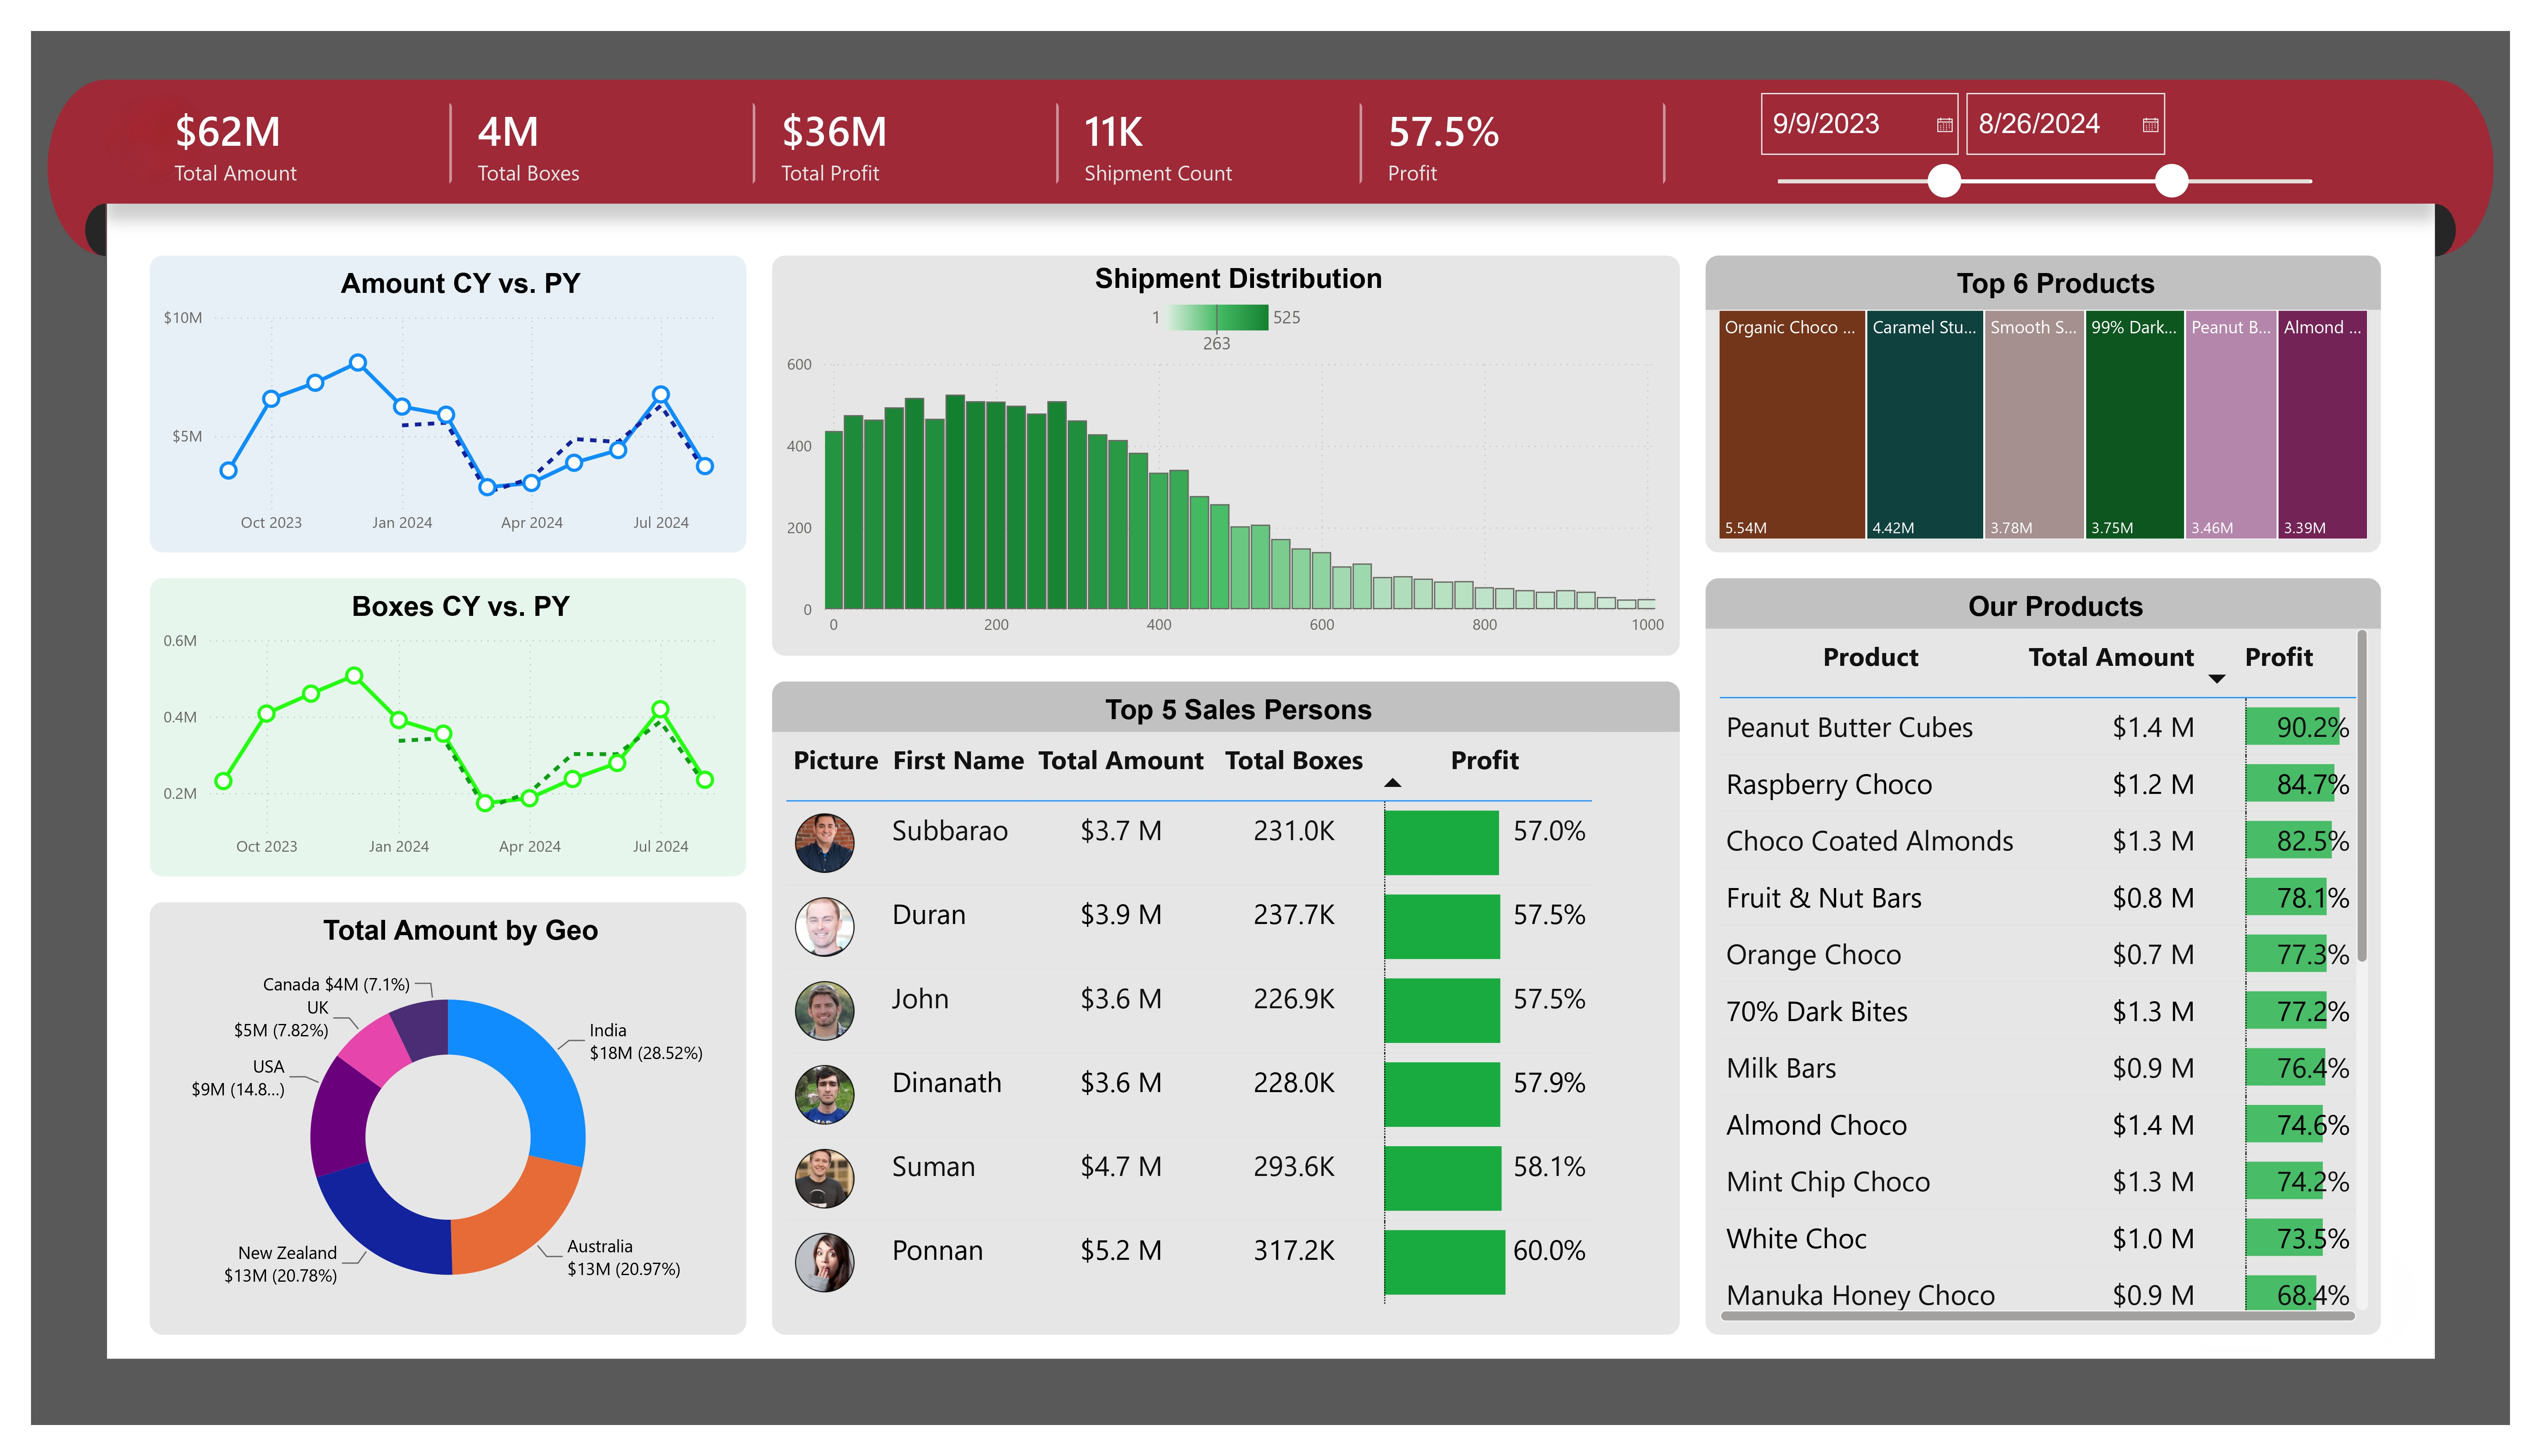

The page's visual inventory and layout, read from the dashboard file:
{"tool":"powerbi","page":{"name":"Page 8","canvas":[1920,1080],"ordinal":7},"visuals":[{"type":"lineChart","title":"Amount CY vs. PY","fields":{"Y":["shipments.Total Amount","shipments.Total Amount (last year)"],"Category":["calendar.Start of Month"]},"box":[82,164.1,481.7,250.3],"z":0},{"type":"lineChart","title":"Boxes CY vs. PY","fields":{"Category":["calendar.Start of Month"],"Y":["shipments.Total Boxes","shipments.Total Boxes (Last year)"]},"box":[82,414.4,481.7,250.3],"z":1000},{"type":"donutChart","fields":{"Category":["locations.Geo"],"Y":["shipments.Total Amount"]},"box":[82,664.7,481.7,355.5],"z":2000},{"type":"clusteredColumnChart","title":"Shipment Distribution","fields":{"Y":["shipments.Shipment Count"],"Category":["shipments.Boxes (bins)"]},"box":[563.7,164.1,723.6,330.2],"z":3000},{"type":"tableEx","title":"Top 5 Sales Persons","fields":{"Values":["people.Picture","people.First Name","shipments.Total Amount","shipments.Total Boxes","shipments.Profit Percentage"]},"box":[563.7,494.3,723.6,525.9],"z":4000},{"type":"treemap","title":"Top 6 Products","fields":{"Values":["Sum(shipments.Amount)"],"Group":["products.Product"]},"box":[1287.3,164.1,542.7,250.3],"z":5001},{"type":"tableEx","title":"Our Products","fields":{"Values":["products.Product","shipments.Total Amount","shipments.Profit"]},"box":[1287.3,414.4,542.7,605.8],"z":5002},{"type":"cardVisual","fields":{"Data":["shipments.Total Amount","shipments.Total Boxes","shipments.Total Profit","shipments.Shipment Count","shipments.Profit"]},"box":[82,37.9,1205.3,98.9],"z":5003},{"type":"slicer","fields":{"Values":["calendar.cal_date"]},"box":[1327.3,37.9,460.7,98.9],"z":5004}]}

Visuals, with their boxes on the page's 1920x1080 design canvas (x1, y1, x2, y2). These are canvas units, not pixel positions in the 2541x1456 screenshot, which may show the page scaled, cropped or inside an application window:
"Amount CY vs. PY" lineChart: BBox(82, 164, 564, 414)
"Boxes CY vs. PY" lineChart: BBox(82, 414, 564, 665)
donutChart - locations.Geo x shipments.Total Amount: BBox(82, 665, 564, 1020)
"Shipment Distribution" clusteredColumnChart: BBox(564, 164, 1287, 494)
"Top 5 Sales Persons" tableEx: BBox(564, 494, 1287, 1020)
"Top 6 Products" treemap: BBox(1287, 164, 1830, 414)
"Our Products" tableEx: BBox(1287, 414, 1830, 1020)
cardVisual - shipments.Total Amount x shipments.Total Boxes: BBox(82, 38, 1287, 137)
slicer - calendar.cal_date: BBox(1327, 38, 1788, 137)
